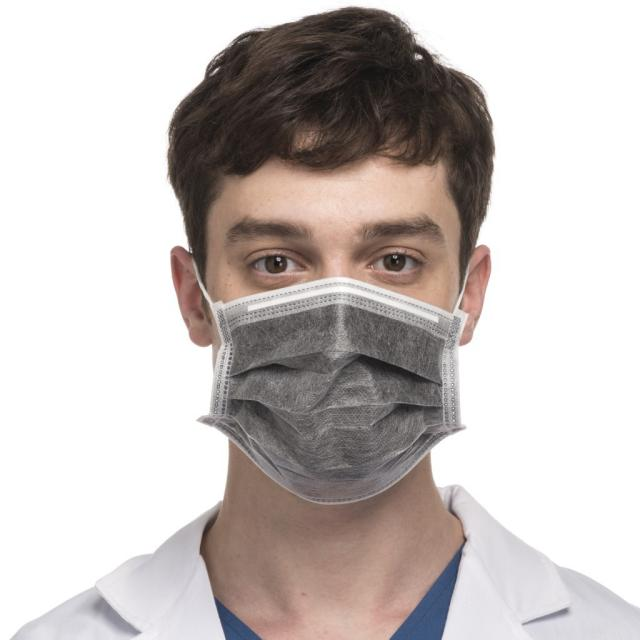mask: (205, 162, 451, 490)
